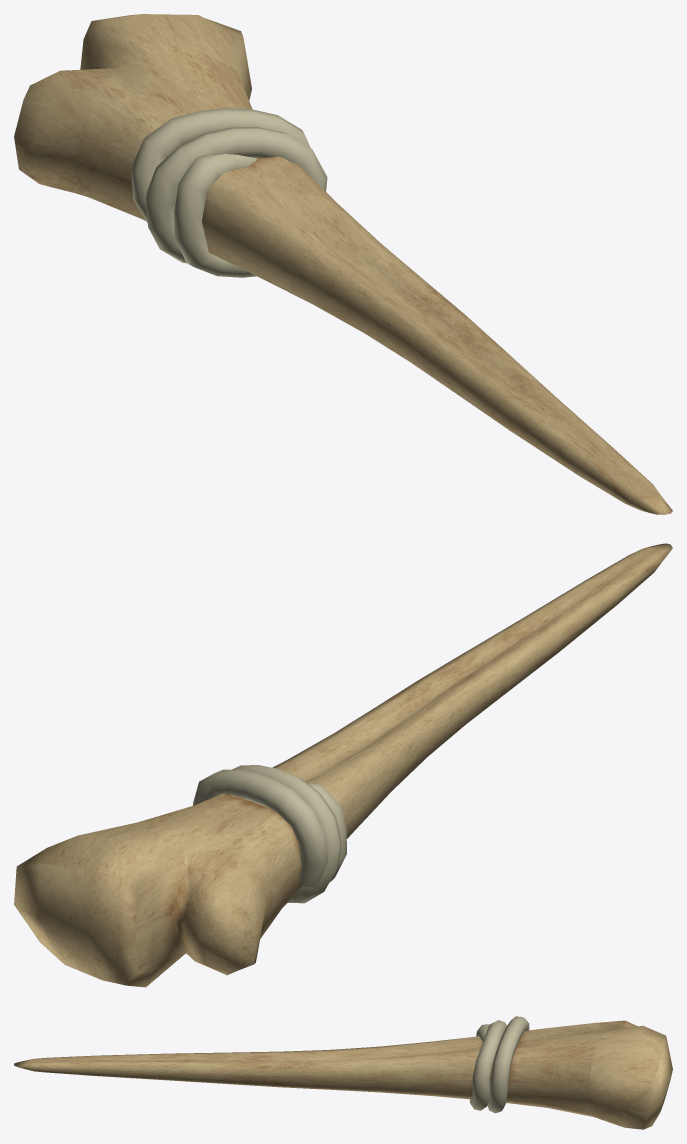
File: boneKnife.fbx
3 renders of one model, top to bottom at view 1: azimuth 30°, elevation 25°; view 2: azimuth 150°, elevation 25°; view 3: azimuth 270°, elevation 25°, orthographic. The views are drawn at different scales.
Parts seen in each view (by area): view 1: bone_low, roup_low; view 2: bone_low, roup_low; view 3: bone_low, roup_low.
Boxes of the visible parts, x1=… form: bone_low: x1=14, y1=14, x2=672, y2=514; roup_low: x1=131, y1=108, x2=327, y2=277; bone_low: x1=14, y1=543, x2=672, y2=987; roup_low: x1=192, y1=765, x2=346, y2=903; bone_low: x1=14, y1=1020, x2=672, y2=1129; roup_low: x1=469, y1=1016, x2=529, y2=1113.
Bounding box in the file's own units: 101 × 61.45 × 418.
